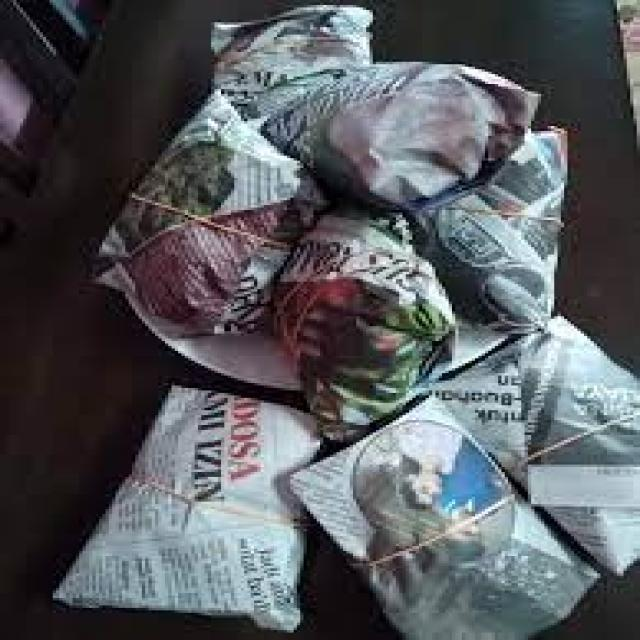newspaper: (292, 397, 589, 640), (63, 389, 317, 627), (222, 8, 535, 190), (262, 196, 464, 418), (454, 327, 640, 559), (107, 96, 299, 320), (442, 130, 596, 323)
